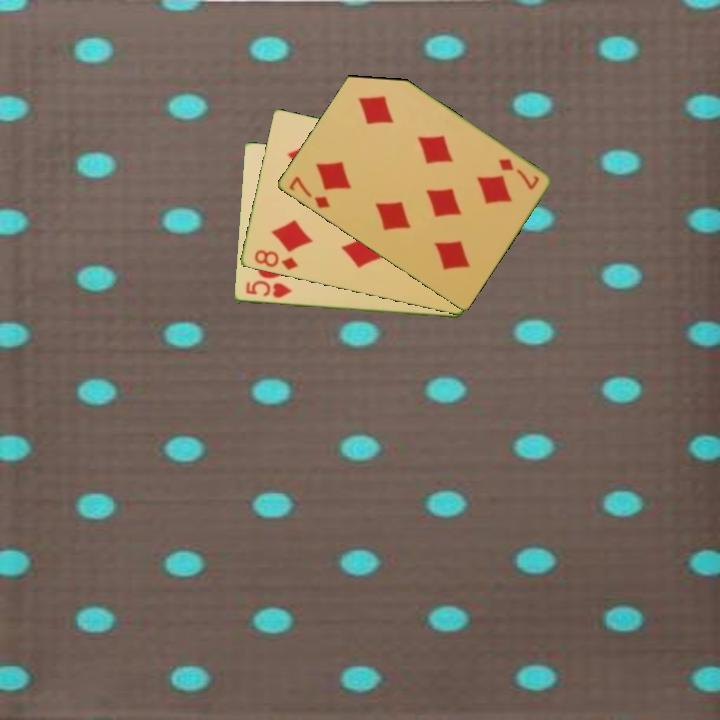5h: (242, 278, 294, 301)
7d: (285, 173, 333, 211), (494, 155, 542, 193)
8d: (250, 246, 301, 273)
